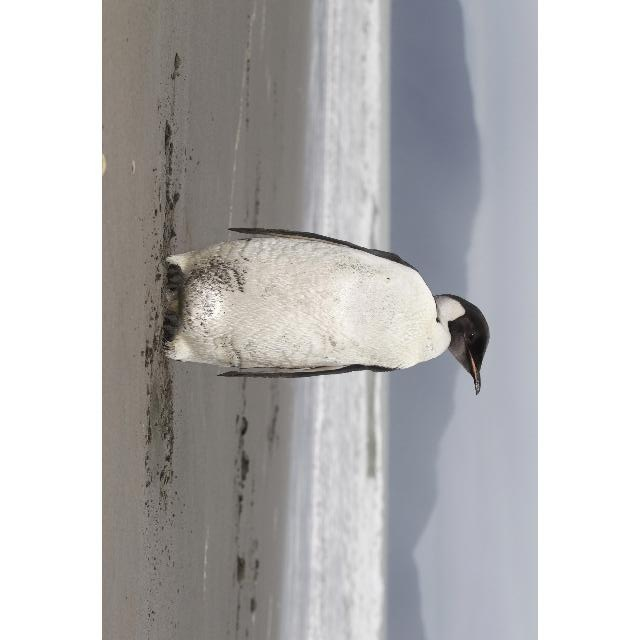penguin: (159, 225, 491, 395)
